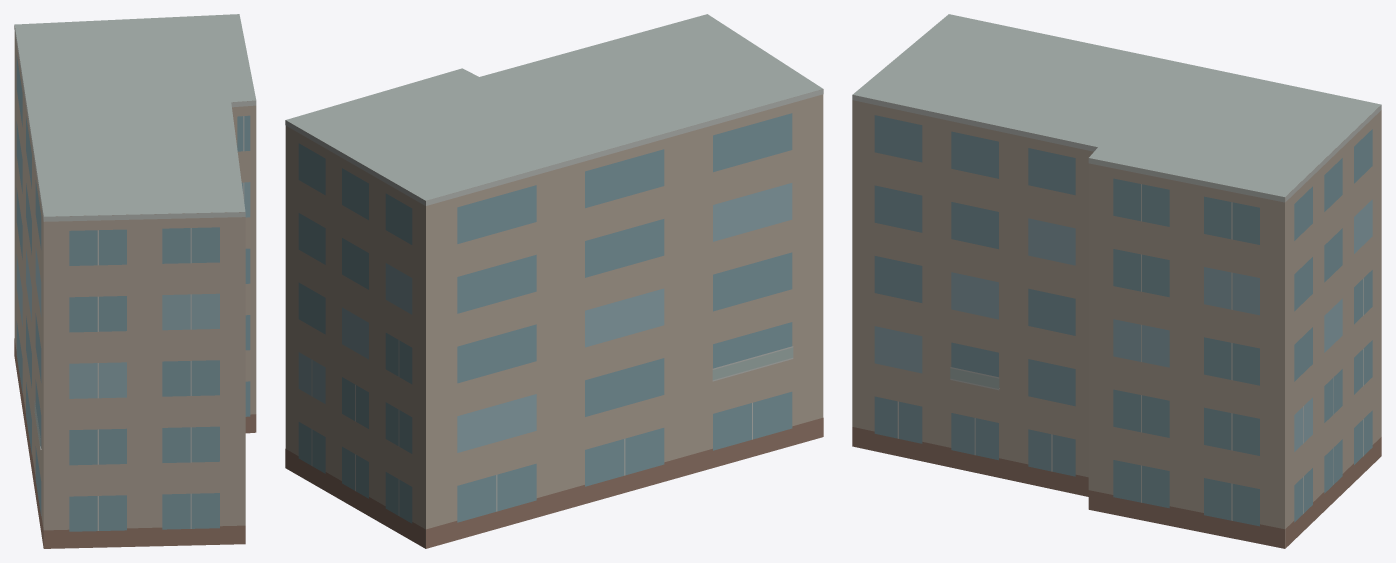
File: survey-upis-32693512.glb
3 views of the same model, side by side, from view 1: azimuth 30°, elevation 25°; view 2: azimuth 150°, elevation 25°; view 3: azimuth 270°, elevation 25° (orthographic). The views are drawn at different scales.
Visible parts, largest first — view 1: survey-upis-32693512.tmp; view 2: survey-upis-32693512.tmp; view 3: survey-upis-32693512.tmp.
Part boxes in pixels (x1,y1,x2,y2): survey-upis-32693512.tmp: (14, 14, 256, 548); survey-upis-32693512.tmp: (285, 14, 823, 548); survey-upis-32693512.tmp: (852, 14, 1381, 548).
Size of the model in its own units: 17.77 by 15.9 by 21.69.
